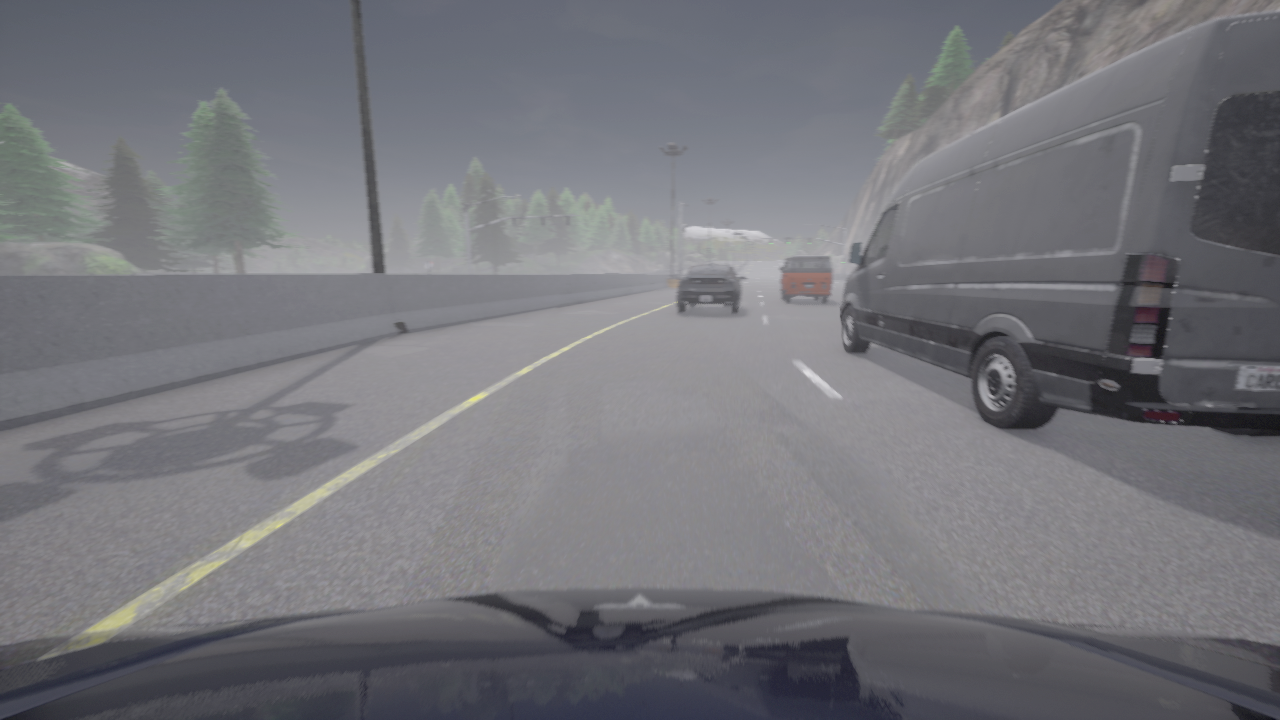cyclist: (839, 10, 1279, 436), (0, 588, 1279, 719), (678, 263, 746, 313), (780, 255, 831, 302)
